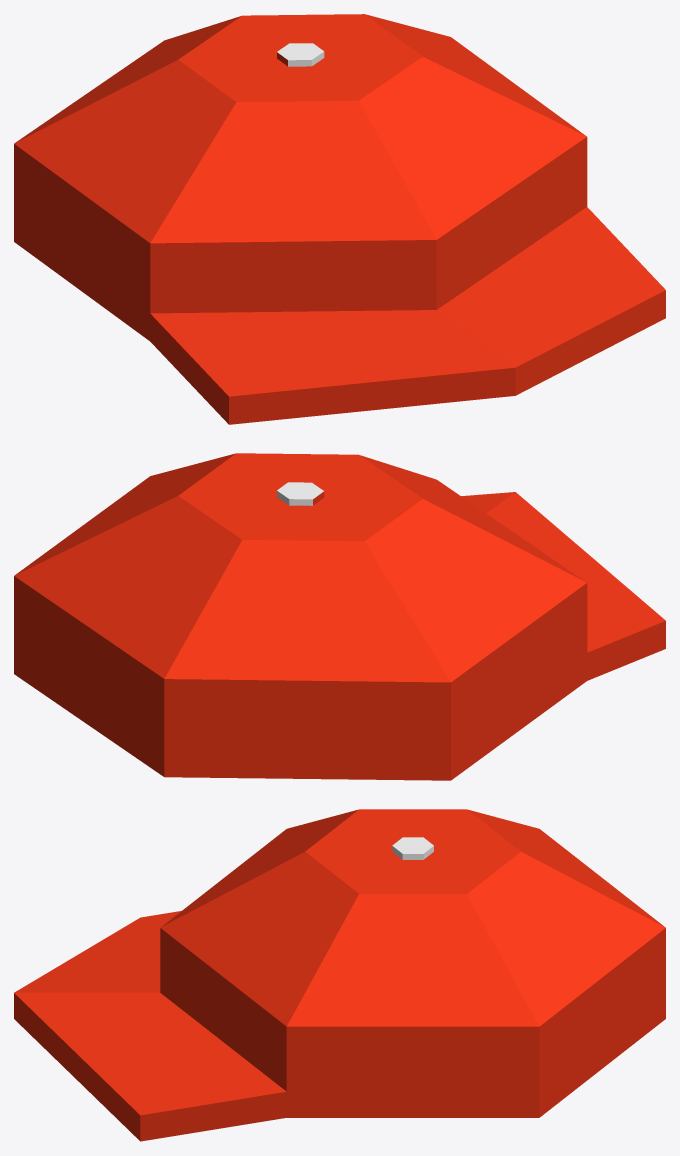
Rendered from Hat_Baseball-Red.glb.
The picture shows the model from 3 angles, top to bottom: view 1: azimuth 30°, elevation 25°; view 2: azimuth 150°, elevation 25°; view 3: azimuth 270°, elevation 25°; orthographic projection. The views are drawn at different scales.
Visible parts, largest first — view 1: Hat_Baseball-Export; view 2: Hat_Baseball-Export; view 3: Hat_Baseball-Export.
Part boxes in pixels (x1,y1,x2,y2): Hat_Baseball-Export: (14,14,665,424); Hat_Baseball-Export: (14,453,665,780); Hat_Baseball-Export: (14,809,665,1141).
Size of the model in its own units: 0.6813 by 0.3163 by 0.9487.
Materials: 1 (1 with a texture image).
